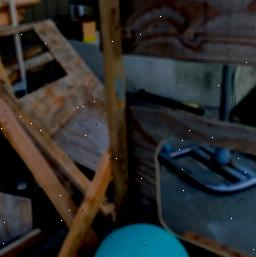algae: (91, 225, 193, 257)
